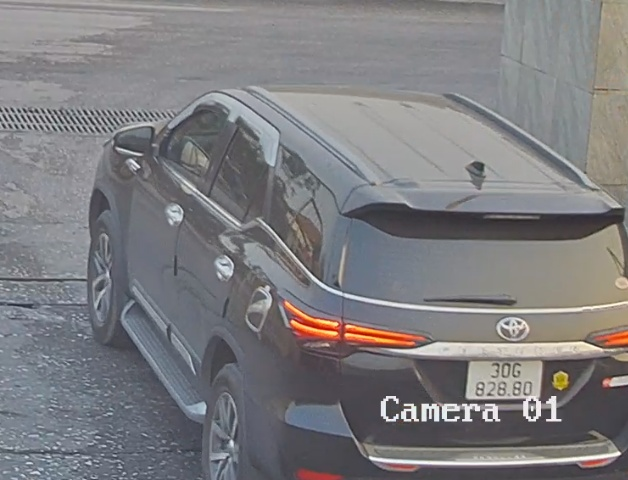vehicle plate: (466, 349, 544, 407)
